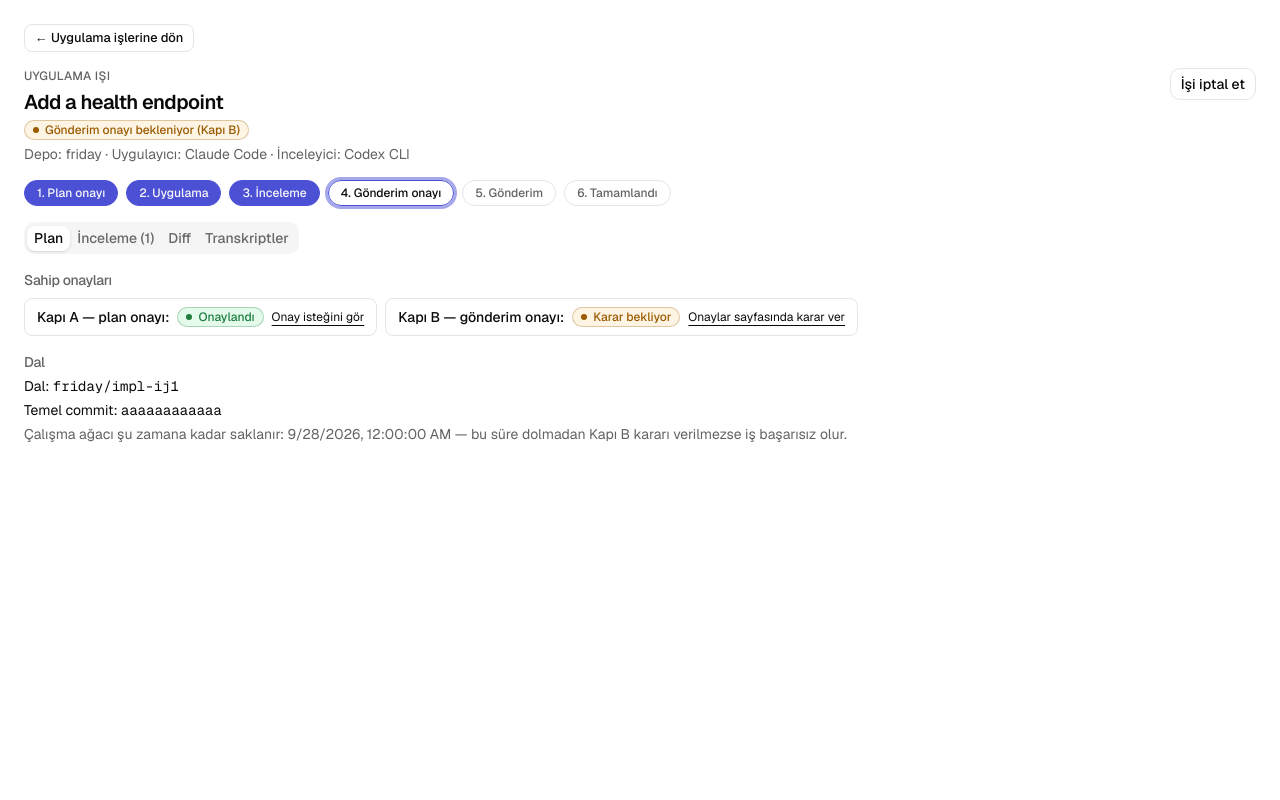
Test: ImplementationJobDetail › keeps both raw transcripts collapsed behind disclosures with a low-trust warning
This screenshot has width=1280, height=800.
expect the heading "Add a health endpoint" is shown: met, box [24,89,223,115]
expect the text "implementer raw output" is not shown: met
Click the tab "Transkriptler".
click(247, 238)  # box [198,226,296,250]
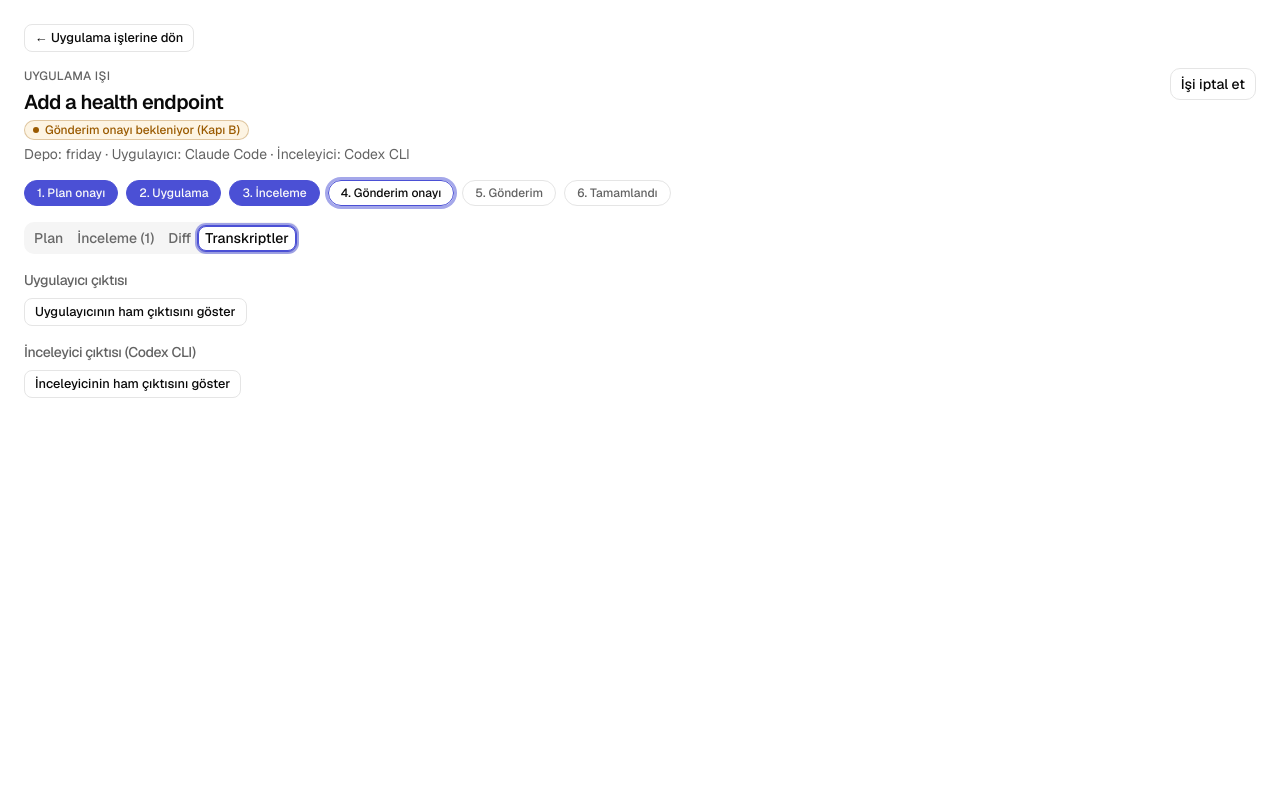
Click the button "Uygulayıcının ham çıktısını göster".
click(135, 312)  # box [24,298,246,326]
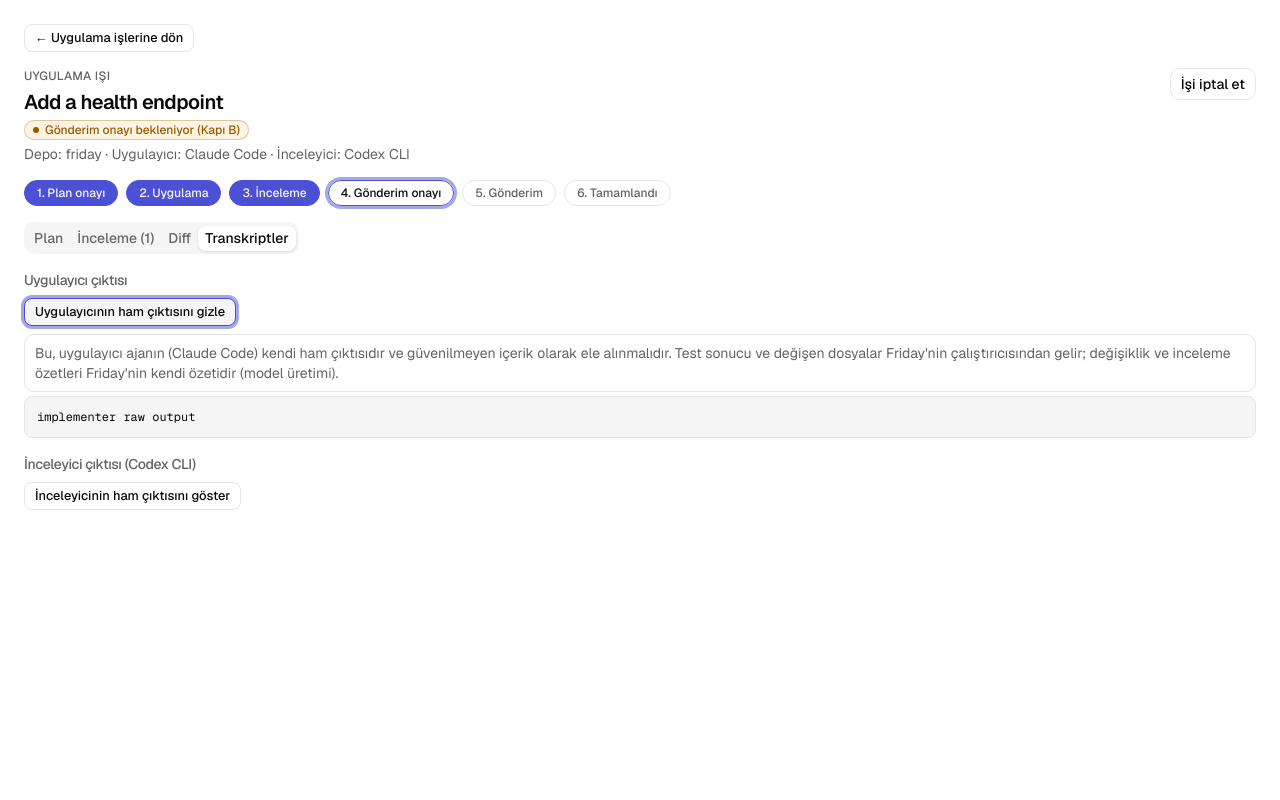
expect the text "uygulayıcı ajanın (Claude Code) kendi ham çıktısıdır" is shown: met, box [35,344,1231,382]
Click the button "İnceleyicinin ham çıktısını göster".
click(133, 496)  # box [24,482,241,510]
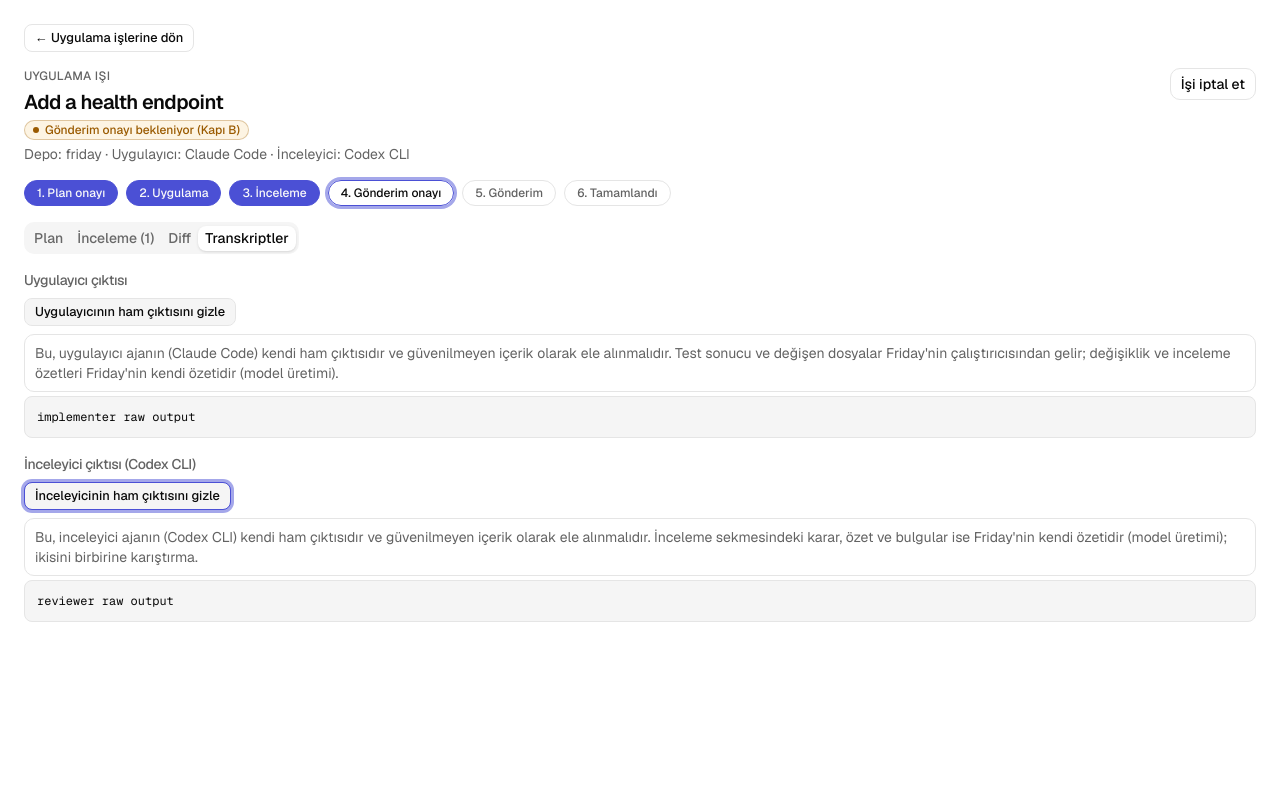
expect the text "inceleyici ajanın (Codex CLI) kendi ham çıktısıdır" is shown: met, box [35,528,1227,566]
